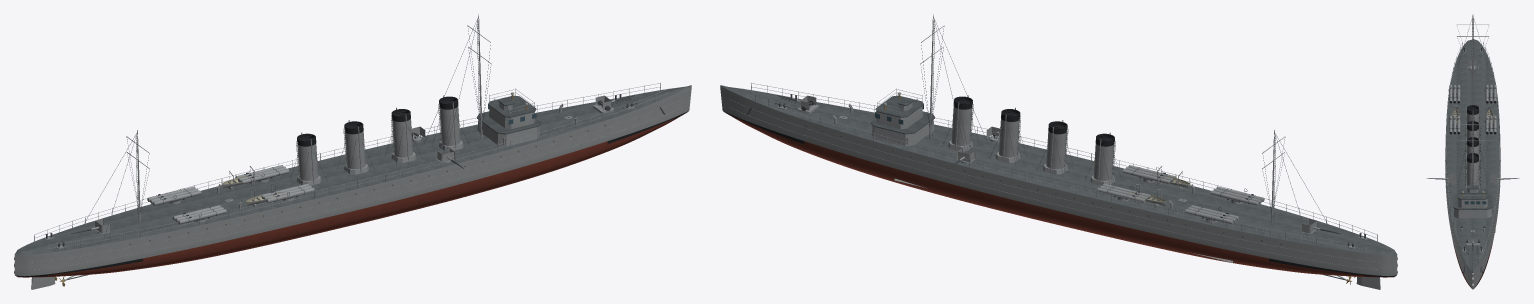
The model's file is wickes.glb.
3 renders of one model, left to right at view 1: azimuth 30°, elevation 25°; view 2: azimuth 150°, elevation 25°; view 3: azimuth 270°, elevation 25°, orthographic. The views are drawn at different scales.
Parts seen in each view (by area): view 1: Wickes class; view 2: Wickes class; view 3: Wickes class.
Part boxes in pixels (x1,y1,x2,y2): Wickes class: (14,14,691,289); Wickes class: (720,14,1397,289); Wickes class: (1426,14,1519,289).
Bounding box in the file's own units: 95.81 × 22.74 × 15.94.
Materials: 9 (8 with a texture image).
